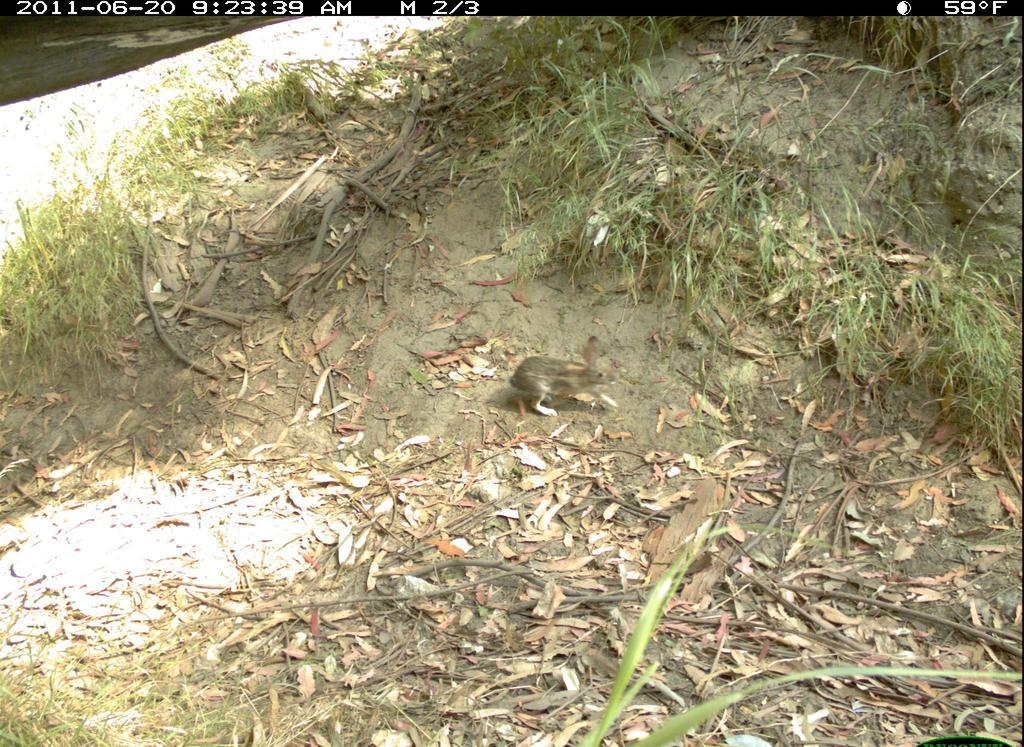rabbit: (506, 336, 616, 422)
